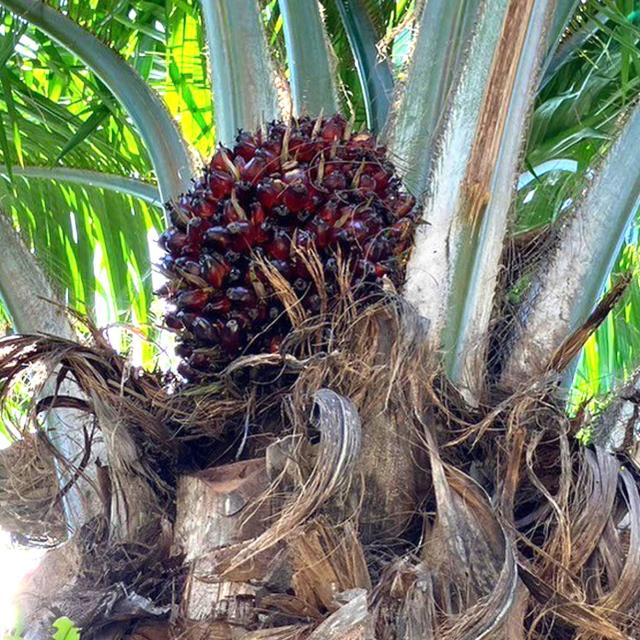ripe: (156, 112, 415, 370)
